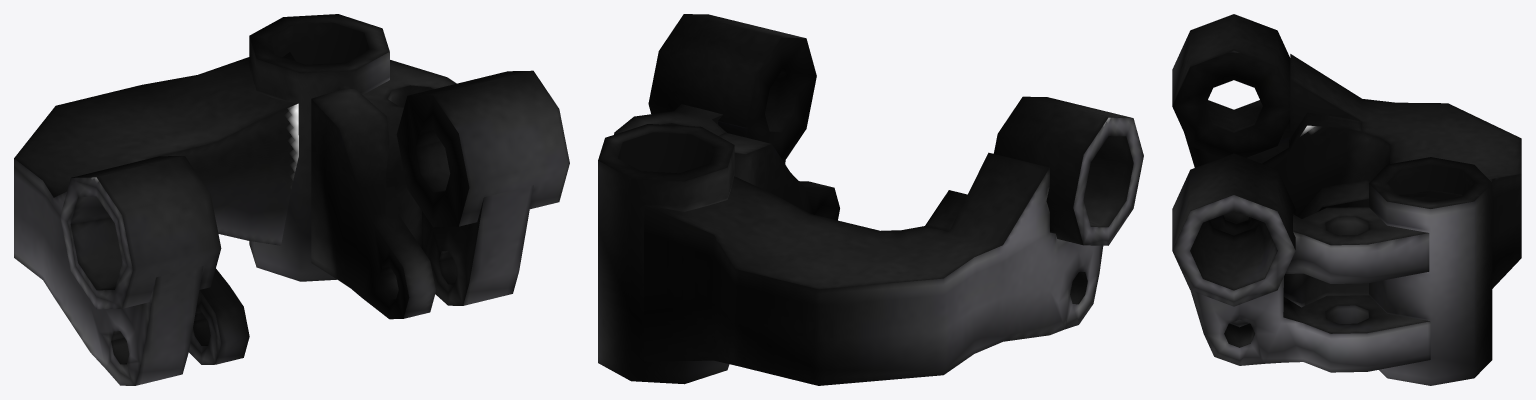
The model's file is r_lglut.dae.
The picture shows the model from 3 angles, left to right: view 1: azimuth 30°, elevation 25°; view 2: azimuth 150°, elevation 25°; view 3: azimuth 270°, elevation 25°; orthographic projection. The views are drawn at different scales.
Parts seen in each view (by area): view 1: r_lglut; view 2: r_lglut; view 3: r_lglut.
Part boxes in pixels (x1=…): r_lglut: x1=14, y1=14, x2=569, y2=385; r_lglut: x1=598, y1=14, x2=1143, y2=385; r_lglut: x1=1172, y1=14, x2=1521, y2=385.
Size of the model in its own units: 0.1439 by 0.0762 by 0.1175.
Materials: 1 (1 with a texture image).
